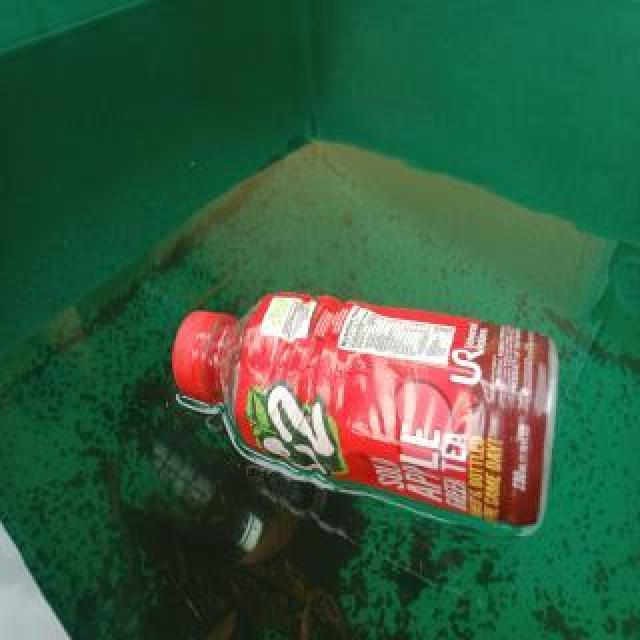bottle: (170, 285, 562, 543)
